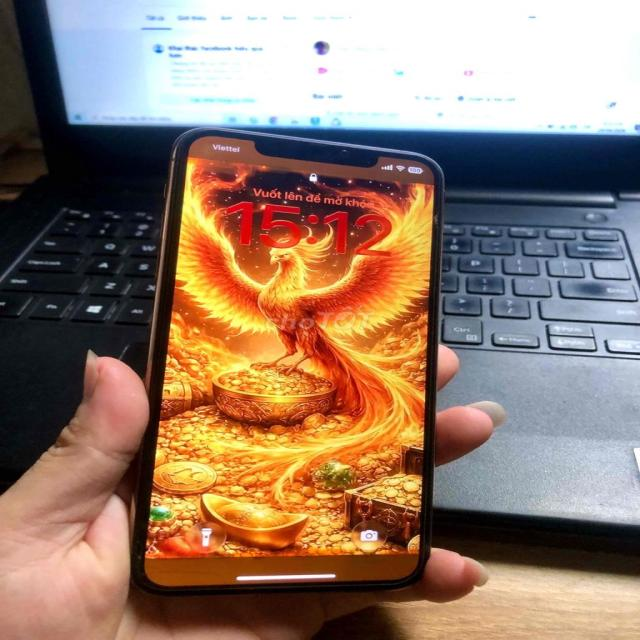gen_11: (128, 114, 462, 606)
